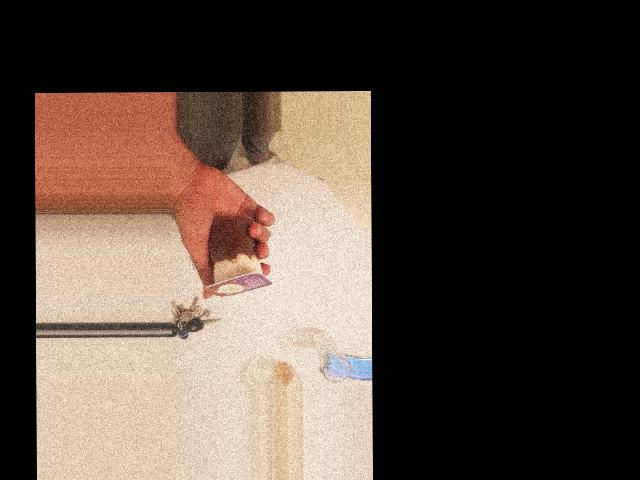milky: (254, 229, 344, 290)
